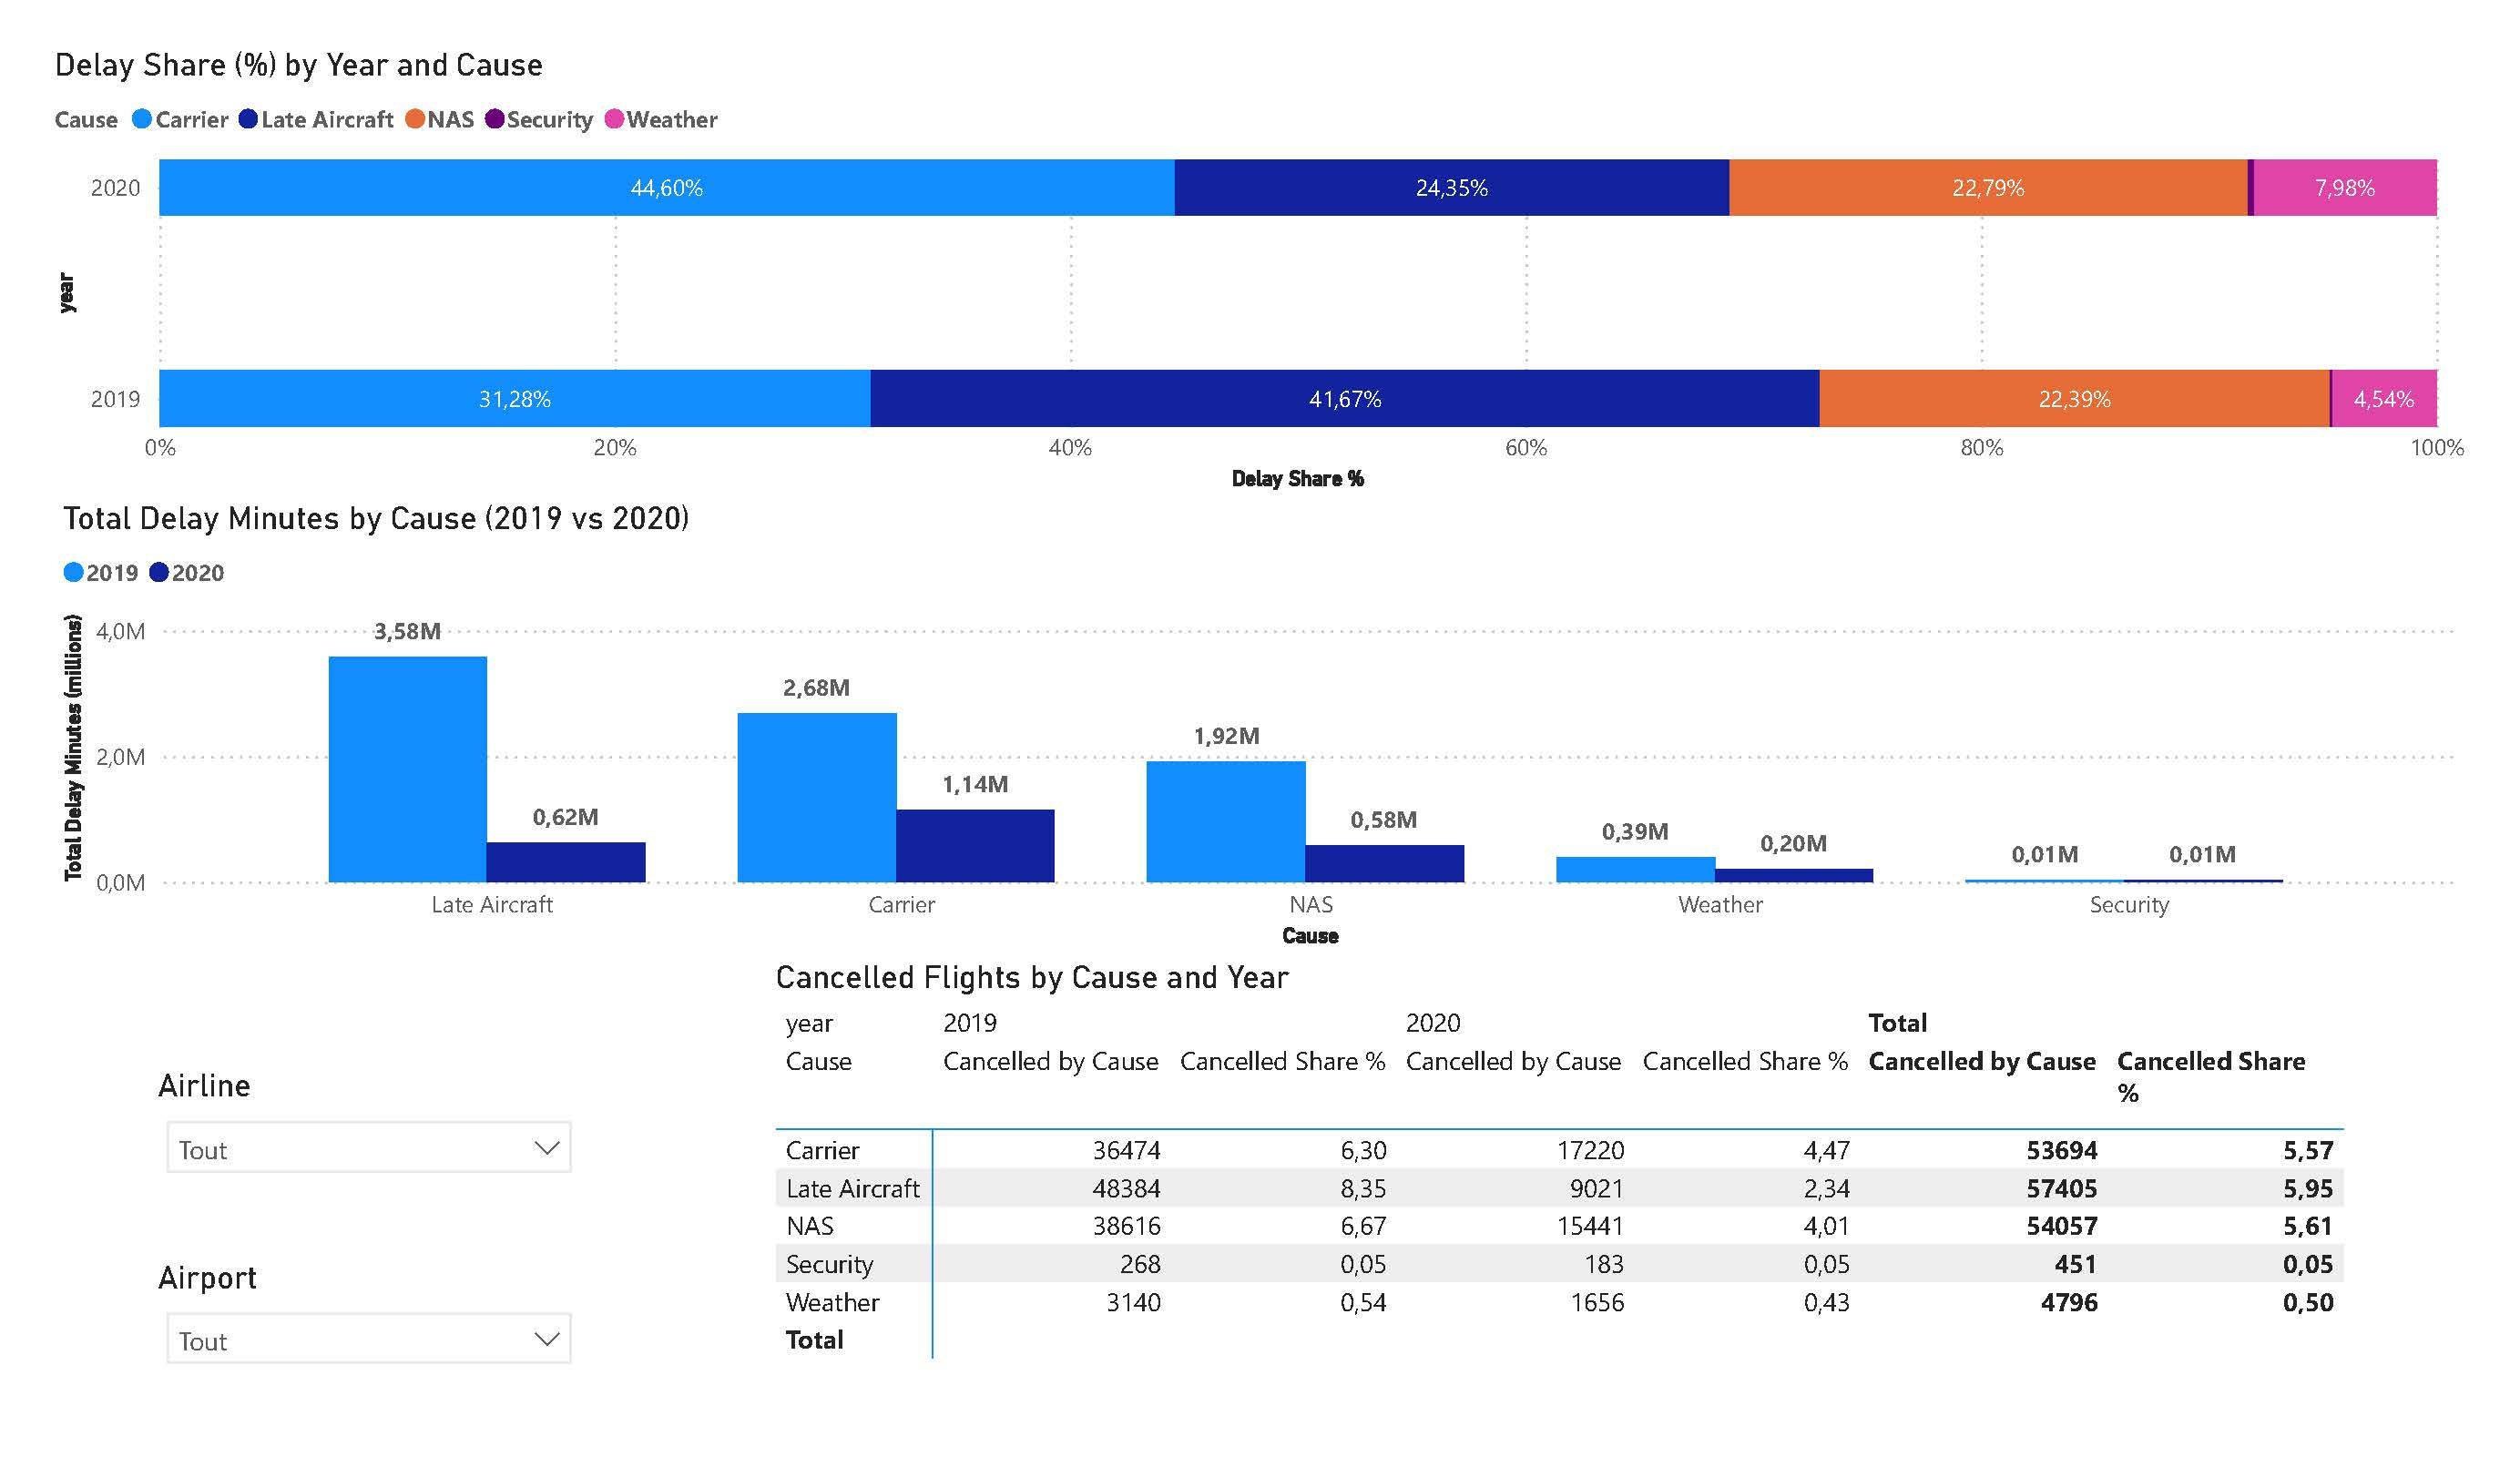

This screenshot's page, from the dashboard's own definition file:
{"tool":"powerbi","page":{"name":"Delay Causes Analysis","canvas":[1280,720],"ordinal":1},"visuals":[{"type":"hundredPercentStackedBarChart","title":"Delay Share (%) by Year and Cause","fields":{"Category":["dim_date.year"],"Series":["Cause.Cause"],"Y":["Cause.Delay Share %"]},"box":[0,0,1280,239.1],"z":0},{"type":"clusteredColumnChart","title":"Total Delay Minutes by Cause (2019 vs 2020)","fields":{"Category":["Cause.Cause"],"Y":["Cause.Delay Minutes by Cause"],"Series":["dim_date.year"]},"box":[4.1,239.1,1271.8,241.2],"z":1000},{"type":"pivotTable","title":"Cancelled Flights by Cause and Year","fields":{"Rows":["Cause.Cause"],"Columns":["dim_date.year"],"Values":["Cause.Cancelled by Cause","Cause.Cancelled Share %"]},"box":[380.1,481.2,881.9,232.5],"z":2000},{"type":"slicer","title":"Airline","fields":{"Values":["dim_carrier.carrier_name"]},"box":[54.5,538.4,232.6,59],"z":3000},{"type":"slicer","title":"Airport","fields":{"Values":["dim_airport.airport_name"]},"box":[54.5,639.4,232.6,64.7],"z":4000}]}

Visuals, with their boxes on the page's 1280x720 design canvas (x1, y1, x2, y2). These are canvas units, not pixel positions in the 2520x1457 screenshot, which may show the page scaled, cropped or inside an application window:
"Delay Share (%) by Year and Cause" hundredPercentStackedBarChart: 0:0:1280:239
"Total Delay Minutes by Cause (2019 vs 2020)" clusteredColumnChart: 4:239:1276:480
"Cancelled Flights by Cause and Year" pivotTable: 380:481:1262:714
"Airline" slicer: 54:538:287:597
"Airport" slicer: 54:639:287:704
